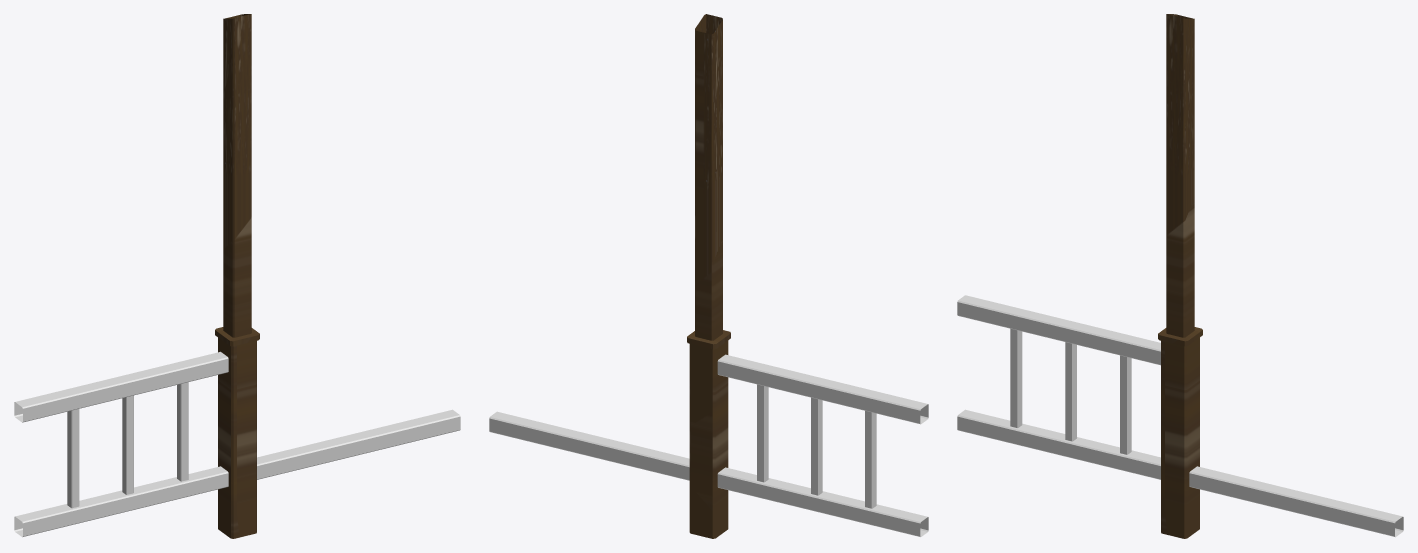
The model's file is Pillar Beam Fence.fbx.
The picture shows the model from 3 angles, left to right: view 1: azimuth 30°, elevation 25°; view 2: azimuth 150°, elevation 25°; view 3: azimuth 330°, elevation 25°; orthographic projection.
Visible parts, largest first — view 1: Cube.065, Cube.071, Cube.074; view 2: Cube.065, Cube.071, Cube.074; view 3: Cube.065, Cube.071, Cube.074.
Part boxes in pixels (box(x1,y1,x2,y2)): Cube.065: box(215, 14, 259, 538); Cube.071: box(14, 351, 228, 537); Cube.074: box(257, 409, 460, 479); Cube.065: box(687, 14, 730, 538); Cube.071: box(717, 354, 928, 536); Cube.074: box(489, 411, 689, 480); Cube.065: box(1158, 14, 1202, 538); Cube.071: box(957, 295, 1160, 479); Cube.074: box(1189, 466, 1403, 537).
Size of the model in its own units: 400 by 453 by 27.36.
